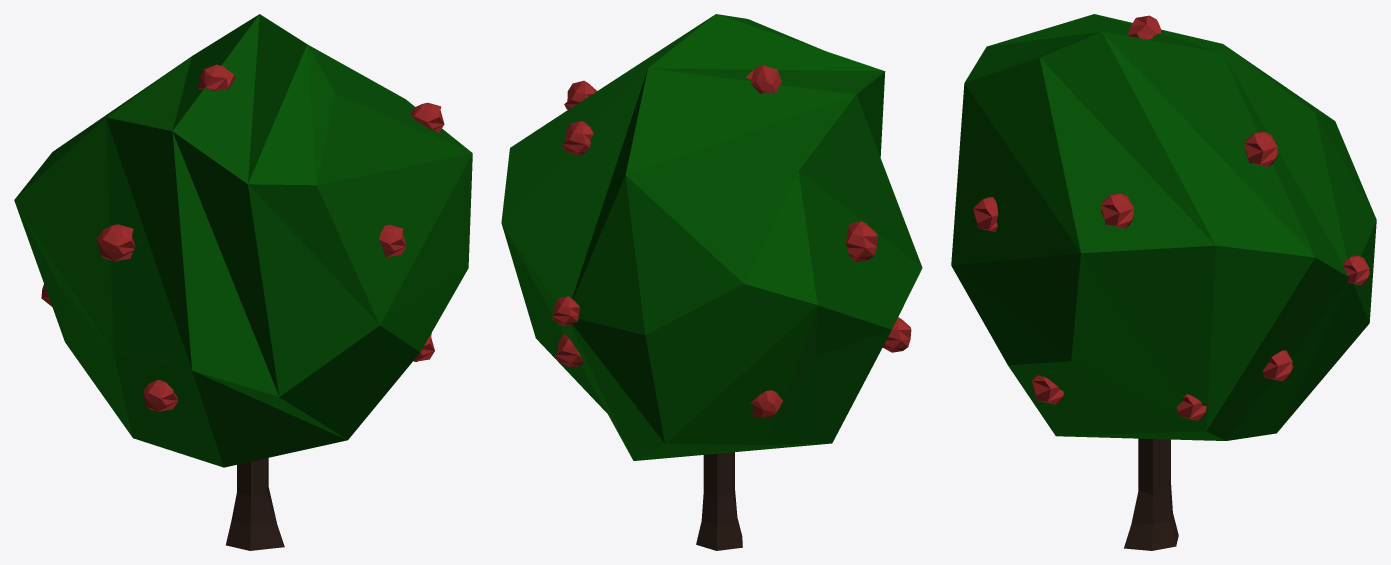
File: Tree09.fbx
3 renders of one model, left to right at view 1: azimuth 30°, elevation 25°; view 2: azimuth 150°, elevation 25°; view 3: azimuth 270°, elevation 25°, orthographic. The views are drawn at different scales.
Visible parts, largest first — view 1: TreeFruitApple; view 2: TreeFruitApple; view 3: TreeFruitApple.
Boxes of the visible parts, bbox=[...] form: TreeFruitApple: bbox=[14, 14, 472, 550]; TreeFruitApple: bbox=[501, 14, 922, 550]; TreeFruitApple: bbox=[951, 14, 1376, 550].
Bounding box in the file's own units: 1.19 × 1.64 × 1.21.
